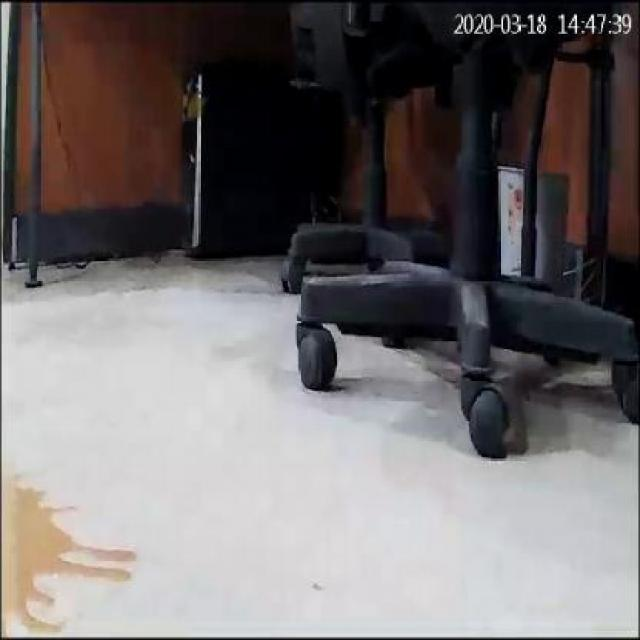spill: (4, 453, 148, 632)
